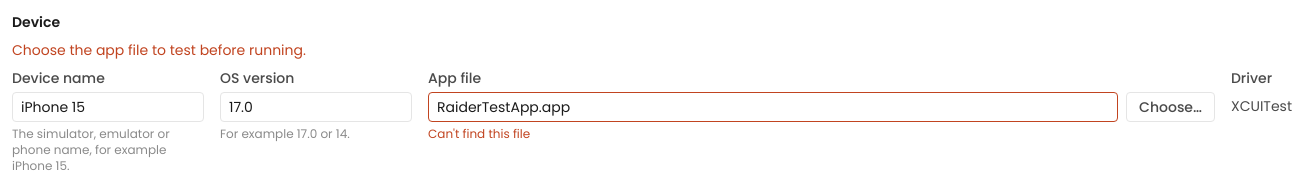
DeviceSettings, app file › fills in and saves the file picked with Choose…, then checks again
Click the button "Choose…": (1170, 107) [1126,92,1215,122]
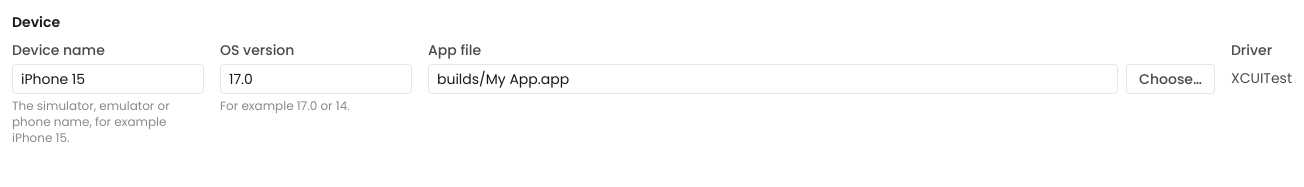
Expected: the field labelled "App file" holds "builds/My App.app", [428,64,1118,94]
Expected: the text "Can't find this file" is gone
Expected: the text "Choose the app file to test before running." is gone
